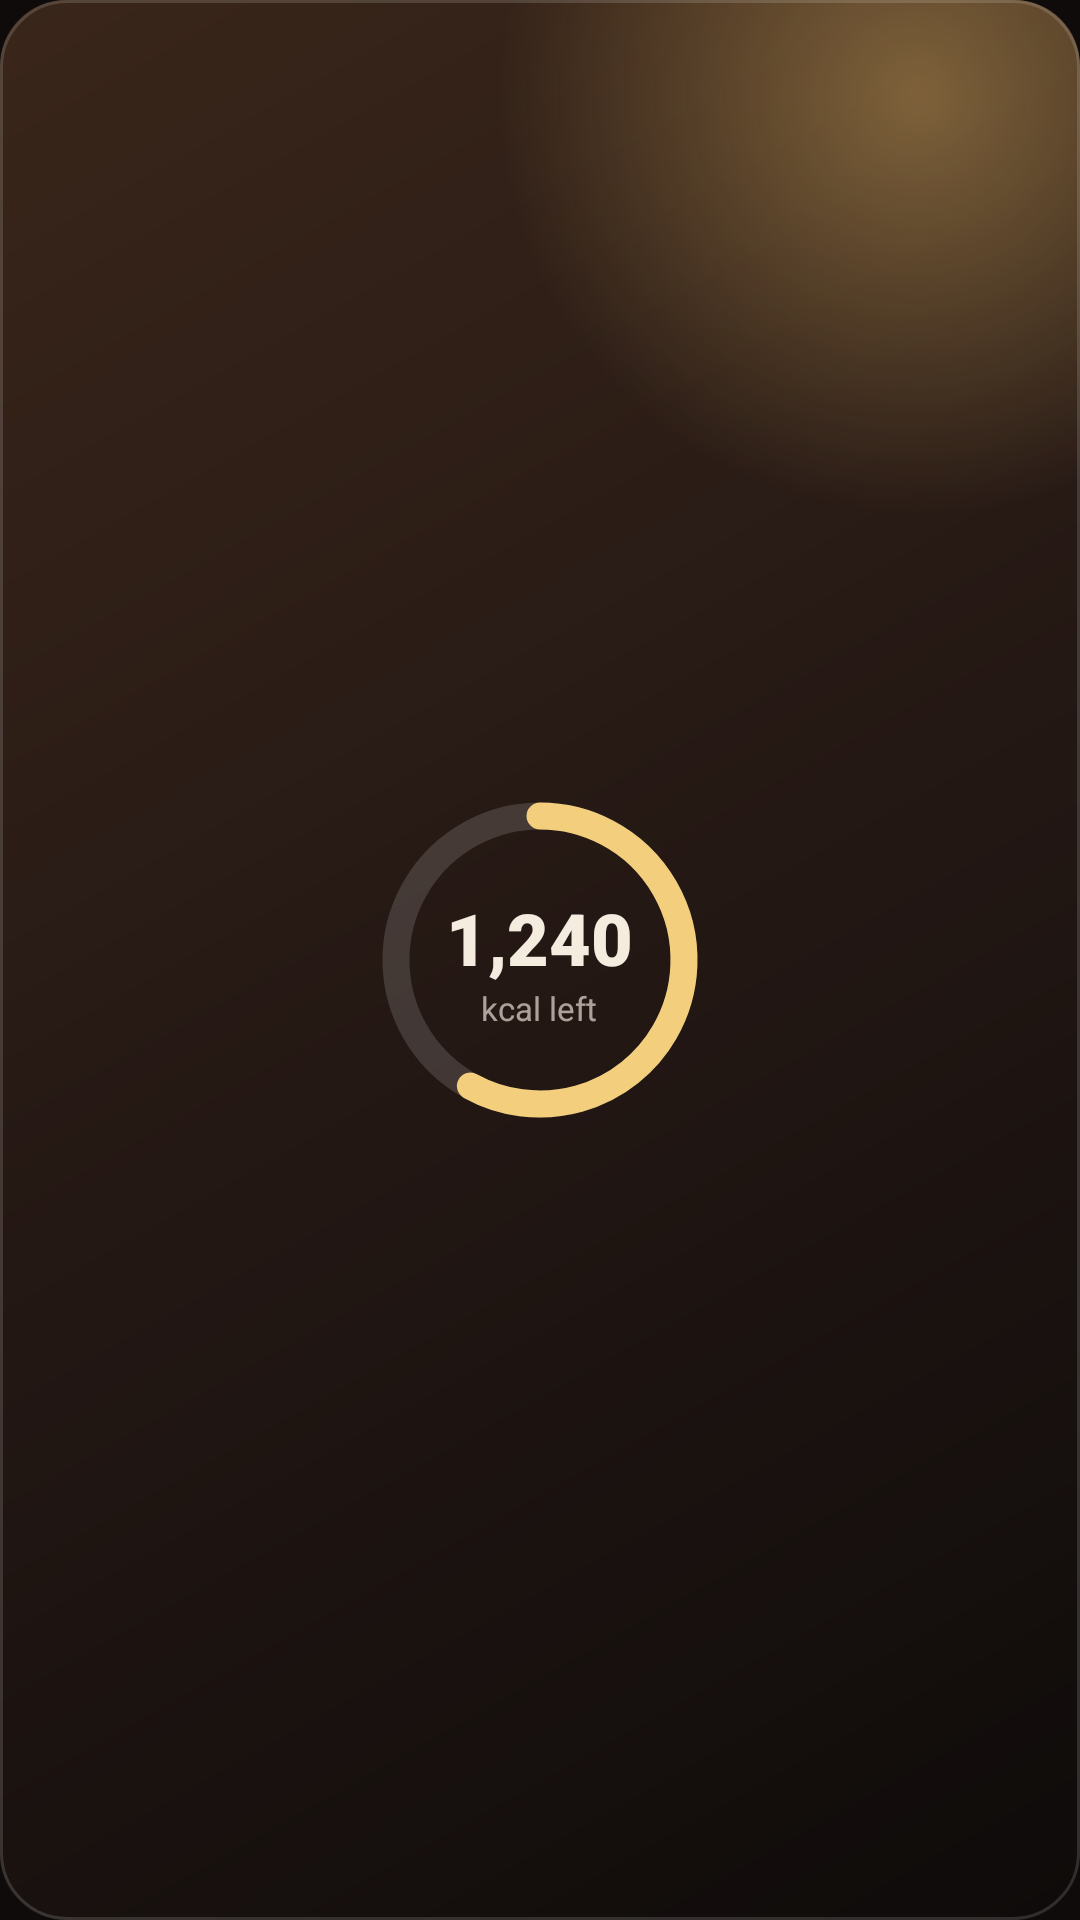

Point at icon controls on the screen. Image size 1080 x 1920, points as point (x, y).
widget art ring: point (540, 960)
